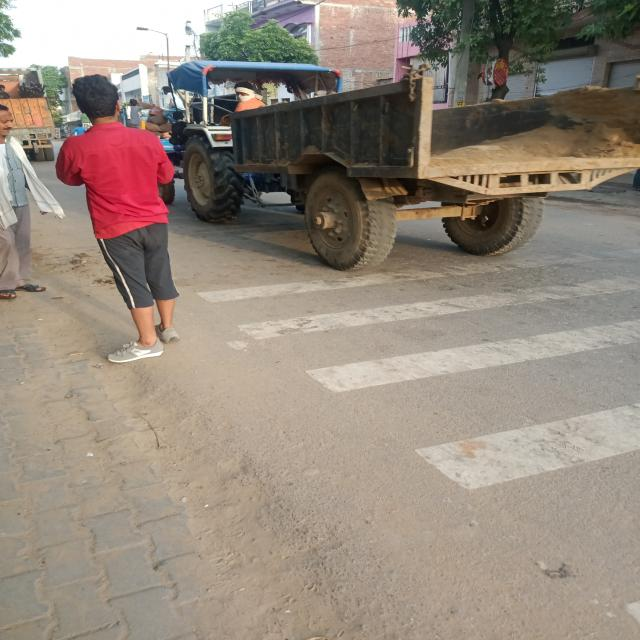Tractor: (174, 63, 614, 274)
